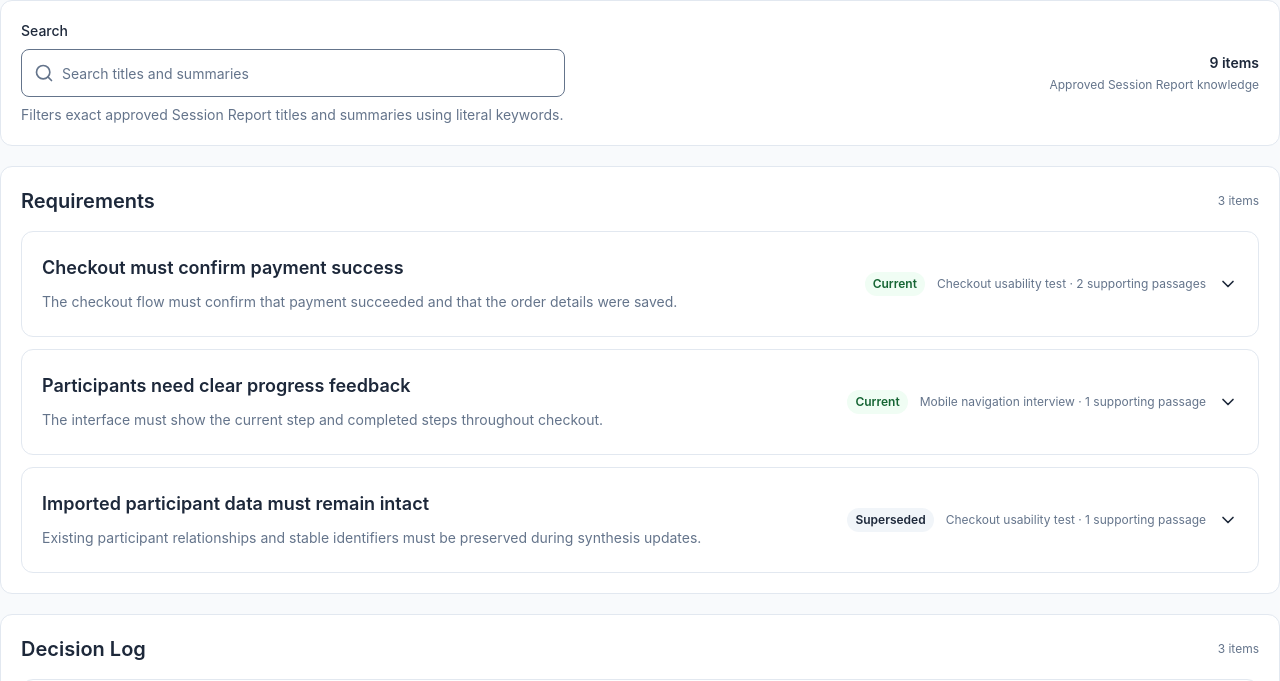
Test: Record Knowledge components › filters titles and summaries with case-insensitive literal matching
The image size is (1280, 681).
Step 1. Type "KNOWLEDGE" into the search field labelled "Search" → (309, 73), box [54, 50, 564, 96]
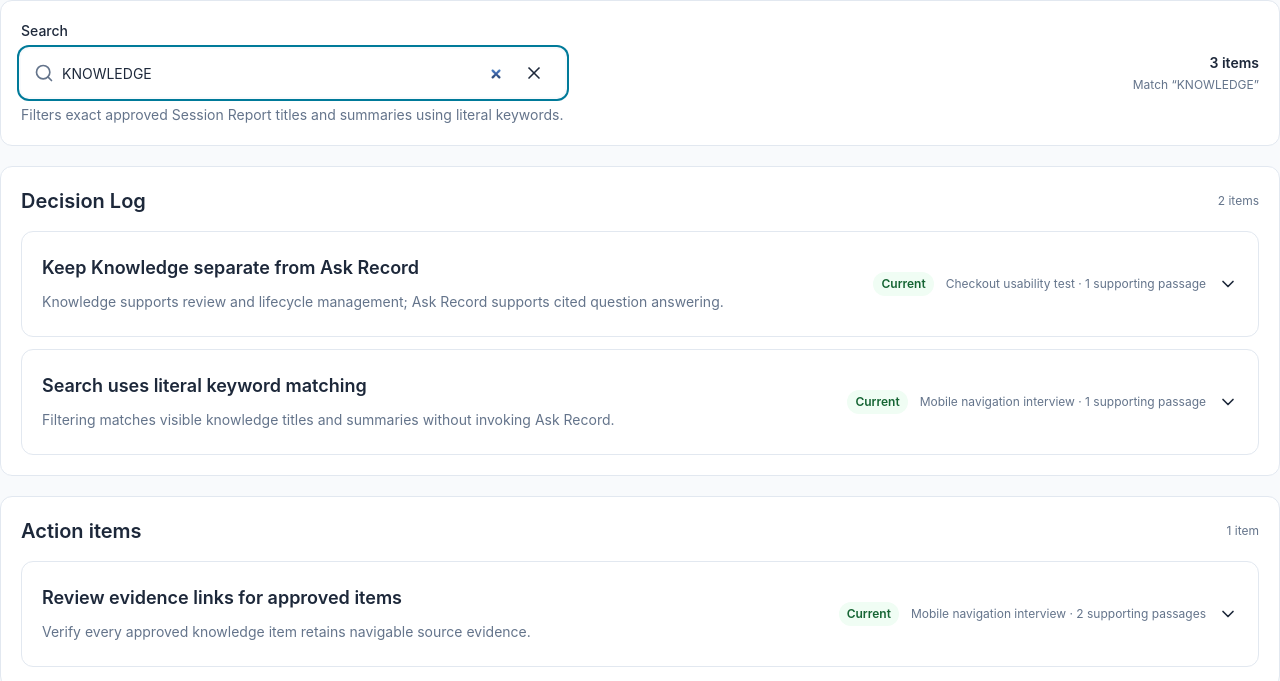
Expected: the heading "Decision Log" is shown, [21, 187, 146, 215]
Expected: the text "3 items" is shown, [1210, 54, 1259, 71]
Expected: the heading "Requirements" is gone
